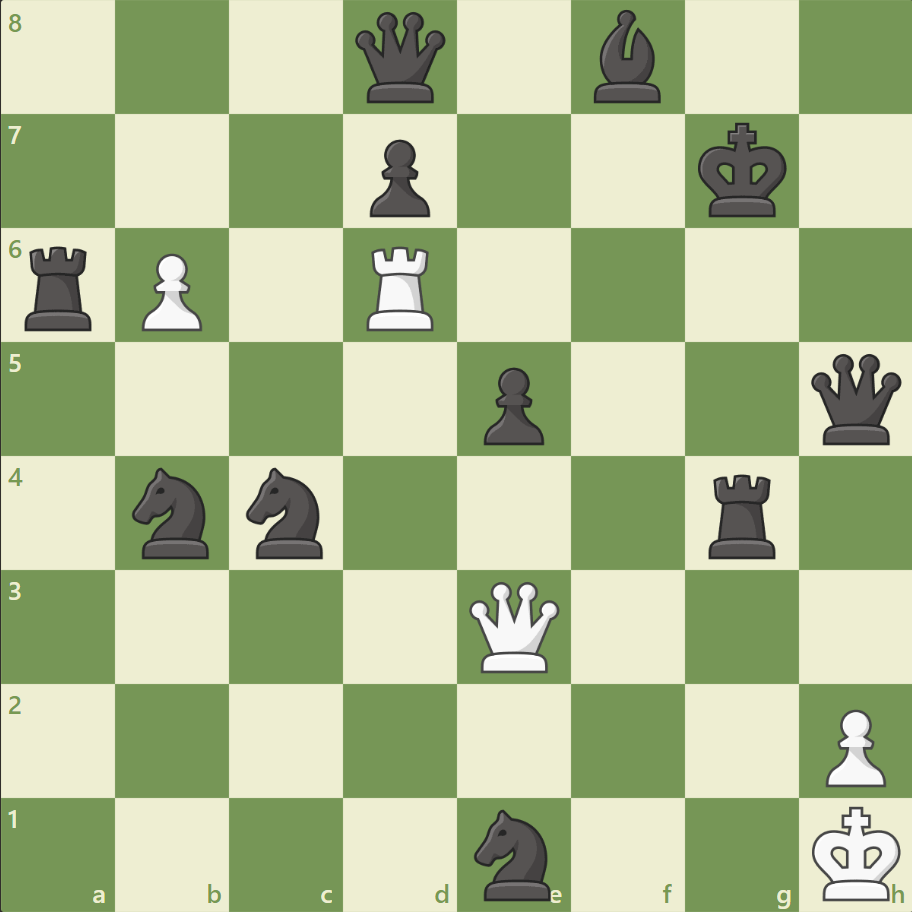K: (806, 798, 906, 906)
P: (133, 246, 208, 337), (815, 700, 889, 791)
Q: (464, 576, 563, 676)
R: (360, 239, 442, 336)
b: (585, 6, 669, 109)
k: (692, 117, 792, 225)
n: (124, 461, 222, 564), (238, 461, 335, 564), (465, 802, 562, 904)
p: (474, 359, 549, 450), (361, 132, 435, 223)
q: (805, 349, 904, 449), (351, 9, 450, 108)
r: (19, 239, 102, 336), (700, 466, 783, 563)
